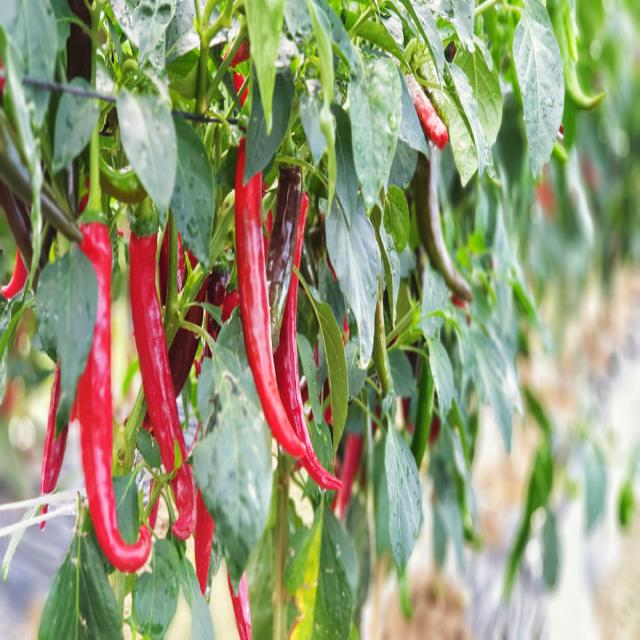Half-Ripe: (266, 164, 301, 352)
Ripe: (78, 224, 151, 573), (235, 138, 306, 456), (130, 231, 196, 540), (274, 193, 341, 490), (41, 364, 69, 494), (404, 73, 449, 149), (195, 488, 214, 594), (228, 573, 251, 640), (1, 249, 28, 299)
Unripe: (412, 142, 472, 301), (546, 0, 605, 109), (410, 355, 435, 467), (372, 278, 390, 396)
